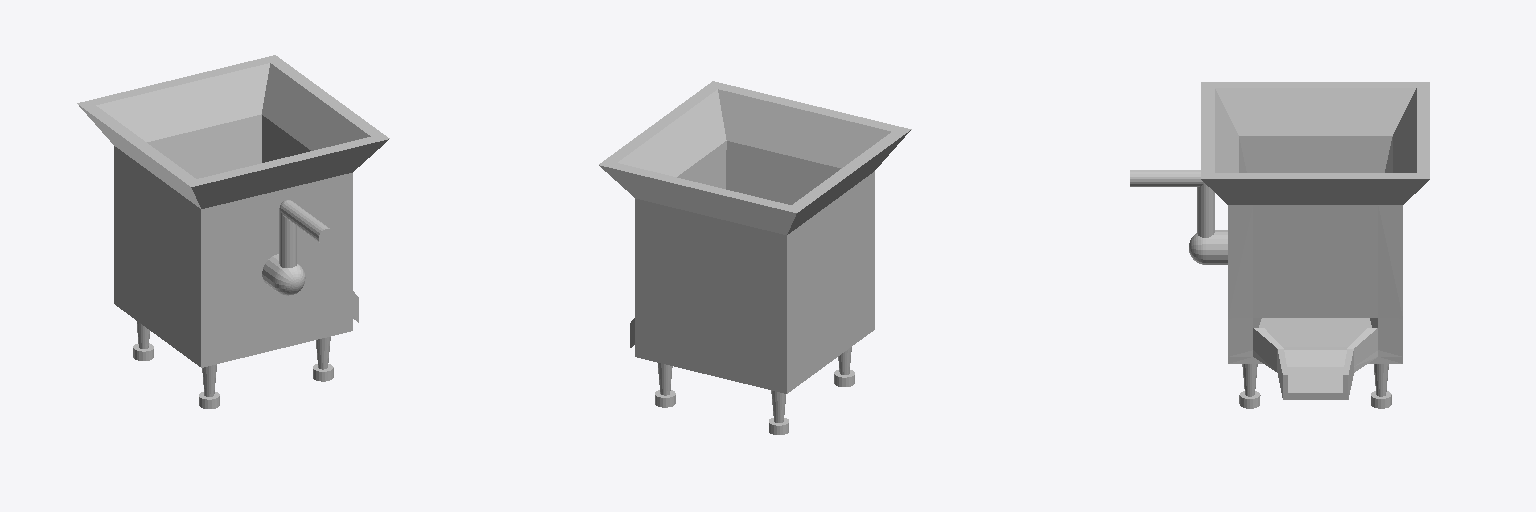
Rendered from juicer.obj.
3 renders of one model, left to right at view 1: azimuth 30°, elevation 25°; view 2: azimuth 150°, elevation 25°; view 3: azimuth 270°, elevation 25°, orthographic.
Visible parts, largest first — view 1: base juicer, juicer handle, juicer crankMid, juicer crankBaseBall, juicer leg1, juicer leg4, juicer leg3; view 2: base juicer, juicer leg2, juicer leg3, juicer leg4; view 3: base juicer, juicer bottom, juicer handle, juicer crankMid, juicer crankBase, juicer leg2, juicer leg1.
Part boxes in pixels (x1,y1,x2,y2): base juicer: (77, 55, 389, 367); juicer handle: (281, 201, 333, 244); juicer crankMid: (279, 209, 296, 267); juicer crankBaseBall: (273, 264, 305, 295); juicer leg1: (313, 337, 333, 381); juicer leg4: (199, 364, 219, 408); juicer leg3: (133, 321, 153, 360); base juicer: (599, 81, 911, 393); juicer leg2: (655, 363, 675, 407); juicer leg3: (769, 390, 788, 434); juicer leg4: (834, 347, 854, 386); base juicer: (1201, 82, 1429, 399); juicer bottom: (1259, 318, 1371, 346); juicer handle: (1130, 170, 1203, 186); juicer crankMid: (1197, 183, 1214, 237); juicer crankBase: (1206, 230, 1227, 264); juicer leg2: (1371, 364, 1391, 408); juicer leg1: (1239, 364, 1260, 408).
Bounding box in the file's own units: 1.37 × 1.55 × 1.72.